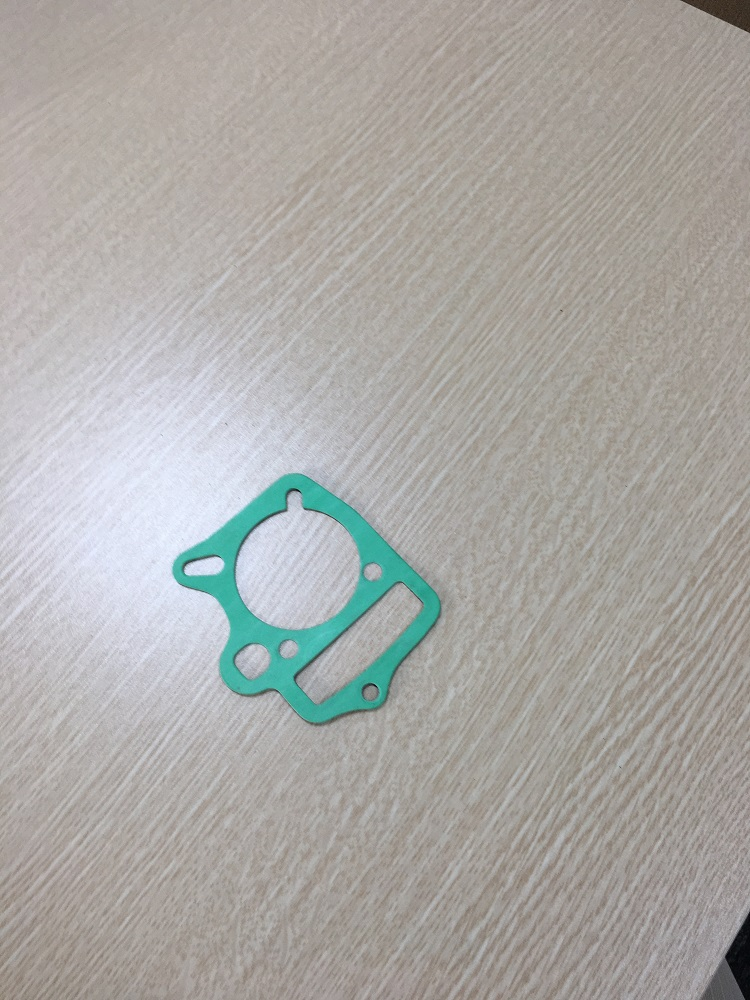circle 1: (226, 469, 373, 639)
circle 2: (223, 630, 279, 692)
circle 3: (160, 542, 236, 598)
circle 4: (353, 551, 406, 587)
circle 5: (350, 669, 398, 715)
circle 6: (285, 575, 439, 715)
object: (138, 440, 482, 777)
